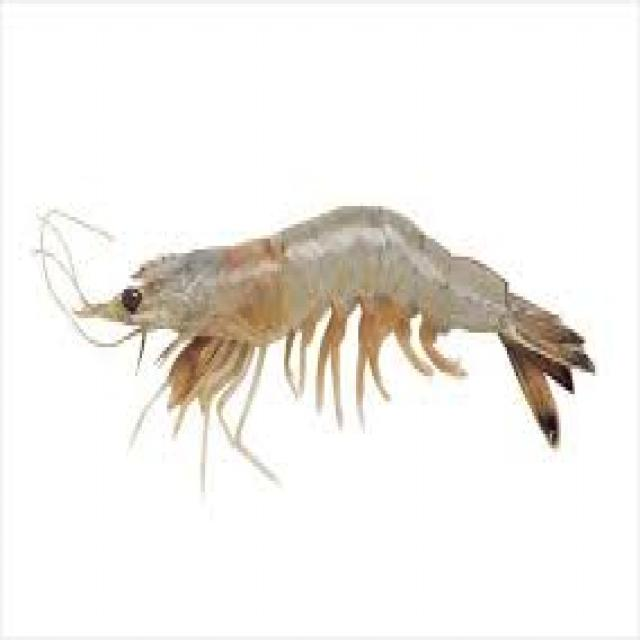shrimp: (22, 145, 604, 528)
